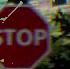Stop: (0, 4, 57, 68)
